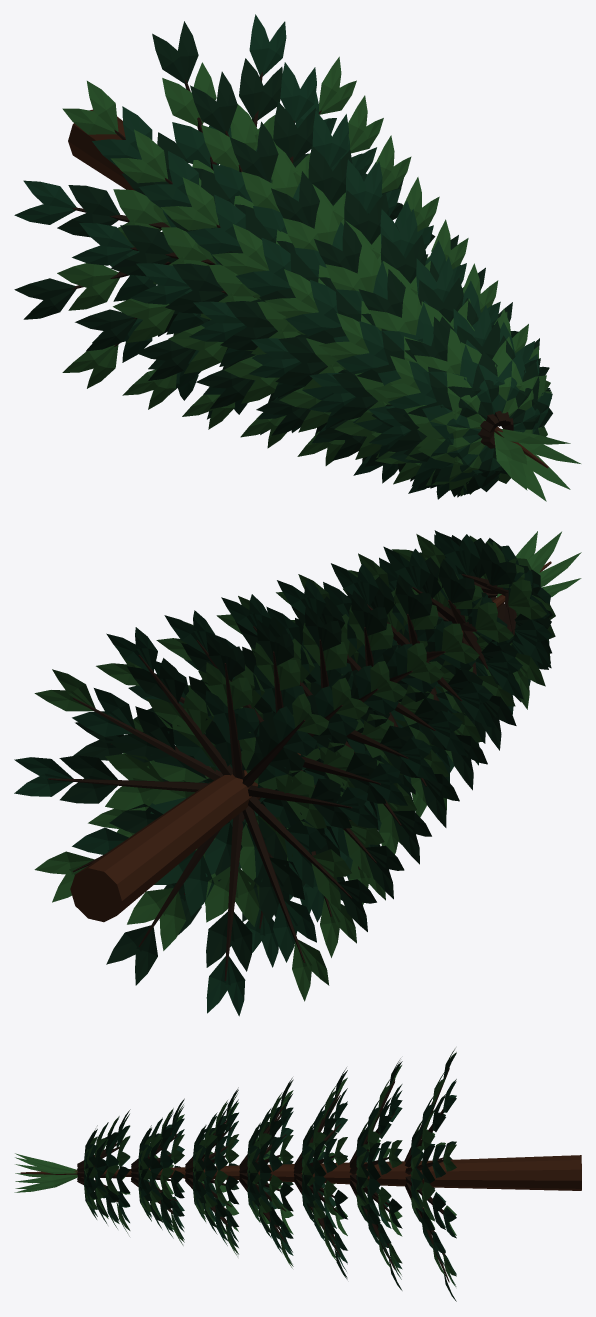
File: Conifer.obj
3 views of the same model, one above another, from view 1: azimuth 30°, elevation 25°; view 2: azimuth 150°, elevation 25°; view 3: azimuth 270°, elevation 25° (orthographic). The views are drawn at different scales.
Parts seen in each view (by area): view 1: Conifer; view 2: Conifer; view 3: Conifer.
Boxes of the visible parts, box(x1,y1,x2,y2) form: Conifer: box(14, 14, 580, 501); Conifer: box(14, 530, 581, 1016); Conifer: box(14, 1048, 581, 1301).
Size of the model in its own units: 310 by 310 by 680.
